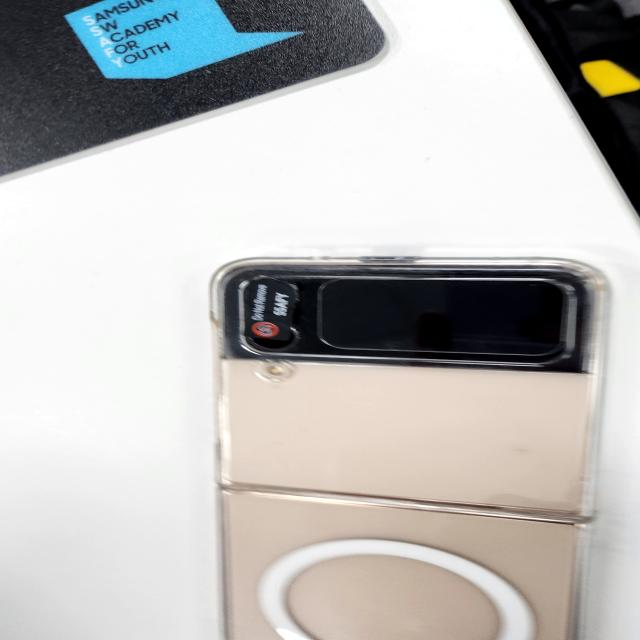phone: (208, 255, 611, 640)
sticker: (243, 278, 299, 343)
